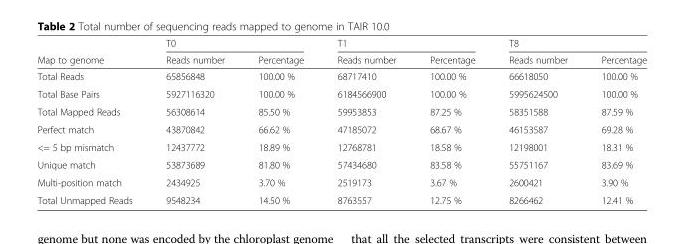table: (36, 37, 646, 205)
table column: (36, 37, 148, 205), (319, 37, 412, 205), (148, 37, 240, 205), (491, 37, 583, 205), (240, 37, 319, 205), (412, 37, 491, 205), (583, 37, 646, 205)
table column header: (36, 37, 646, 67)
table row: (36, 84, 646, 102), (36, 102, 646, 120), (36, 137, 646, 155), (36, 155, 646, 173), (36, 173, 646, 191), (36, 67, 646, 84), (36, 120, 646, 137), (36, 51, 646, 67), (36, 37, 646, 51), (36, 191, 646, 205)
table spanning cell: (36, 37, 148, 67), (319, 37, 491, 51), (148, 37, 319, 51), (491, 37, 646, 51)
